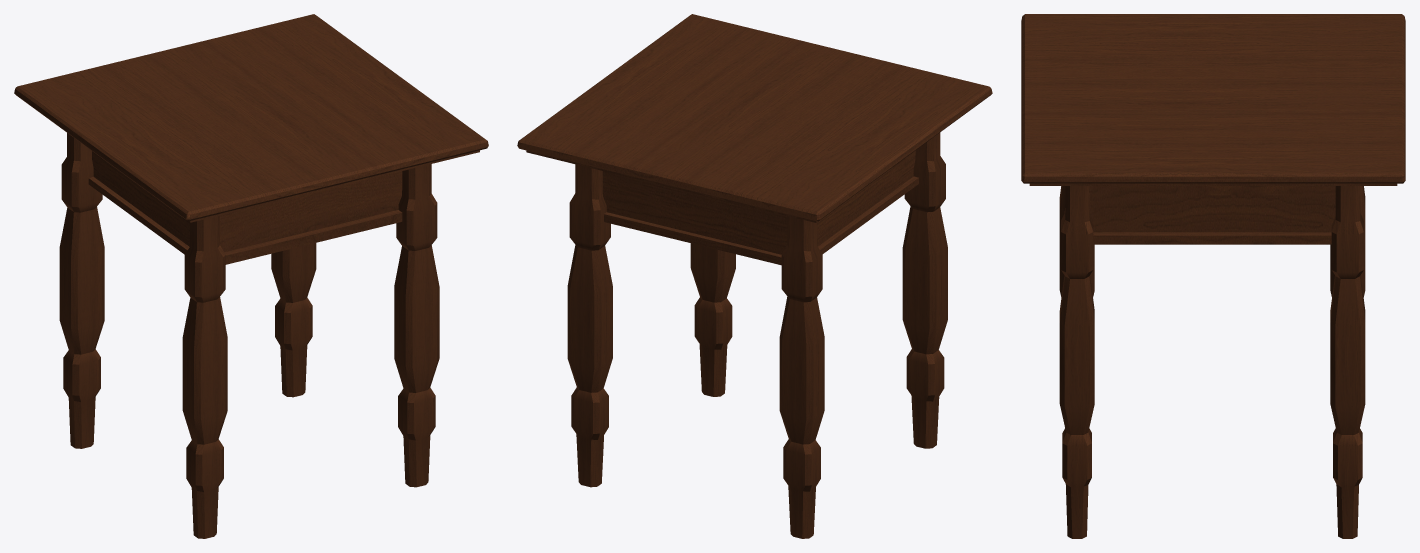
File: sideTable.fbx
The picture shows the model from 3 angles, left to right: view 1: azimuth 30°, elevation 25°; view 2: azimuth 150°, elevation 25°; view 3: azimuth 270°, elevation 25°; orthographic projection. The views are drawn at different scales.
Visible parts, largest first — view 1: table, leg3, leg2, leg, leg1; view 2: table, leg, leg1, leg3, leg2; view 3: table, leg1, leg2, leg3, leg.
Boxes of the visible parts, left/top/right/bottom form: table: left=14, top=14, right=488, bottom=264; leg3: left=182, top=215, right=227, bottom=538; leg2: left=394, top=164, right=439, bottom=487; leg: left=59, top=133, right=104, bottom=448; leg1: left=271, top=243, right=316, bottom=397; table: left=517, top=14, right=992, bottom=265; leg: left=779, top=216, right=824, bottom=538; leg1: left=567, top=164, right=612, bottom=487; leg3: left=902, top=132, right=947, bottom=448; leg2: left=690, top=243, right=735, bottom=396; table: left=1021, top=14, right=1405, bottom=244; leg1: left=1330, top=186, right=1365, bottom=538; leg2: left=1059, top=186, right=1094, bottom=538; leg3: left=1059, top=186, right=1094, bottom=296; leg: left=1330, top=186, right=1365, bottom=296.
Bounding box in the file's own units: 52.21 × 57.72 × 52.21.
